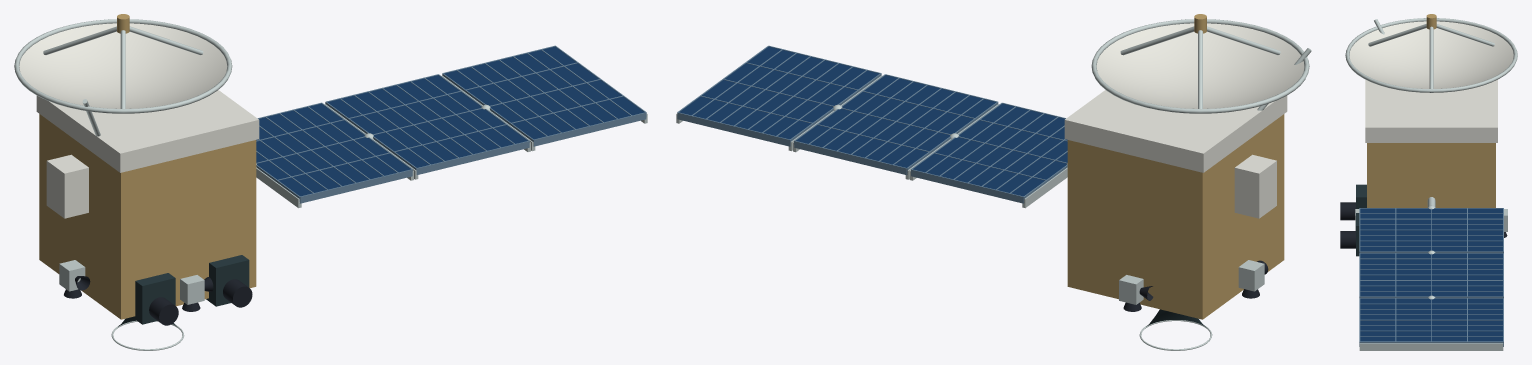
The model's file is mangalyaan.glb.
The picture shows the model from 3 angles, left to right: view 1: azimuth 30°, elevation 25°; view 2: azimuth 150°, elevation 25°; view 3: azimuth 270°, elevation 25°; orthographic projection. The views are drawn at different scales.
Parts seen in each view (by area): view 1: body, photovoltaic-panel (×3), reflector, solar (×3), instruments, antenna, propulsion; view 2: body, photovoltaic-panel (×3), reflector, solar (×3), antenna, propulsion, instruments; view 3: photovoltaic-panel (×3), body, reflector, solar (×4), antenna, instruments.
Boxes of the visible parts, <box> form: body: <box>36,90,259,319</box>; photovoltaic-panel (×3): <box>256,46,644,196</box>; reflector: <box>19,23,227,108</box>; solar (×3): <box>256,45,647,208</box>; instruments: <box>46,154,252,325</box>; antenna: <box>14,14,232,113</box>; propulsion: <box>59,260,213,350</box>; body: <box>1064,90,1287,319</box>; photovoltaic-panel (×3): <box>679,46,1067,196</box>; reflector: <box>1096,23,1304,108</box>; solar (×3): <box>676,45,1067,208</box>; antenna: <box>1091,14,1309,113</box>; propulsion: <box>1119,260,1268,350</box>; instruments: <box>1234,154,1276,218</box>; photovoltaic-panel (×3): <box>1360,208,1502,341</box>; body: <box>1365,79,1497,207</box>; reflector: <box>1349,21,1513,88</box>; solar (×4): <box>1359,197,1503,350</box>; antenna: <box>1345,14,1517,92</box>; instruments: <box>1340,184,1366,256</box>.
Bounding box in the file's own units: 4.66 × 2.53 × 1.58.
